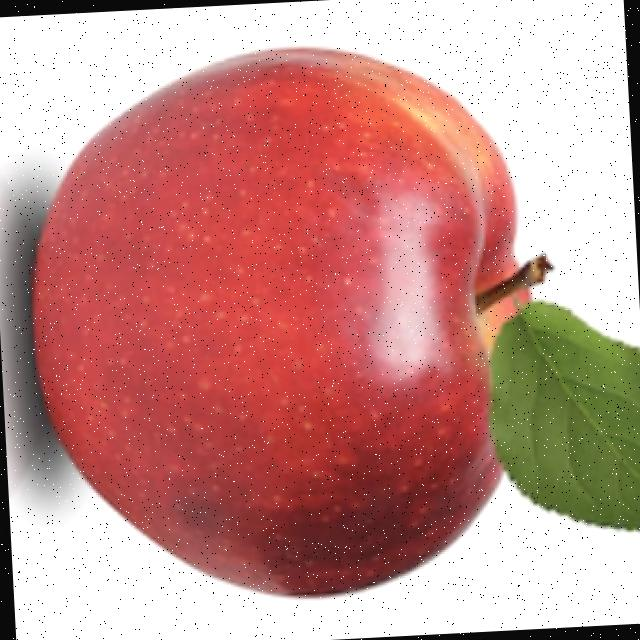Ripe: (13, 29, 570, 612)
